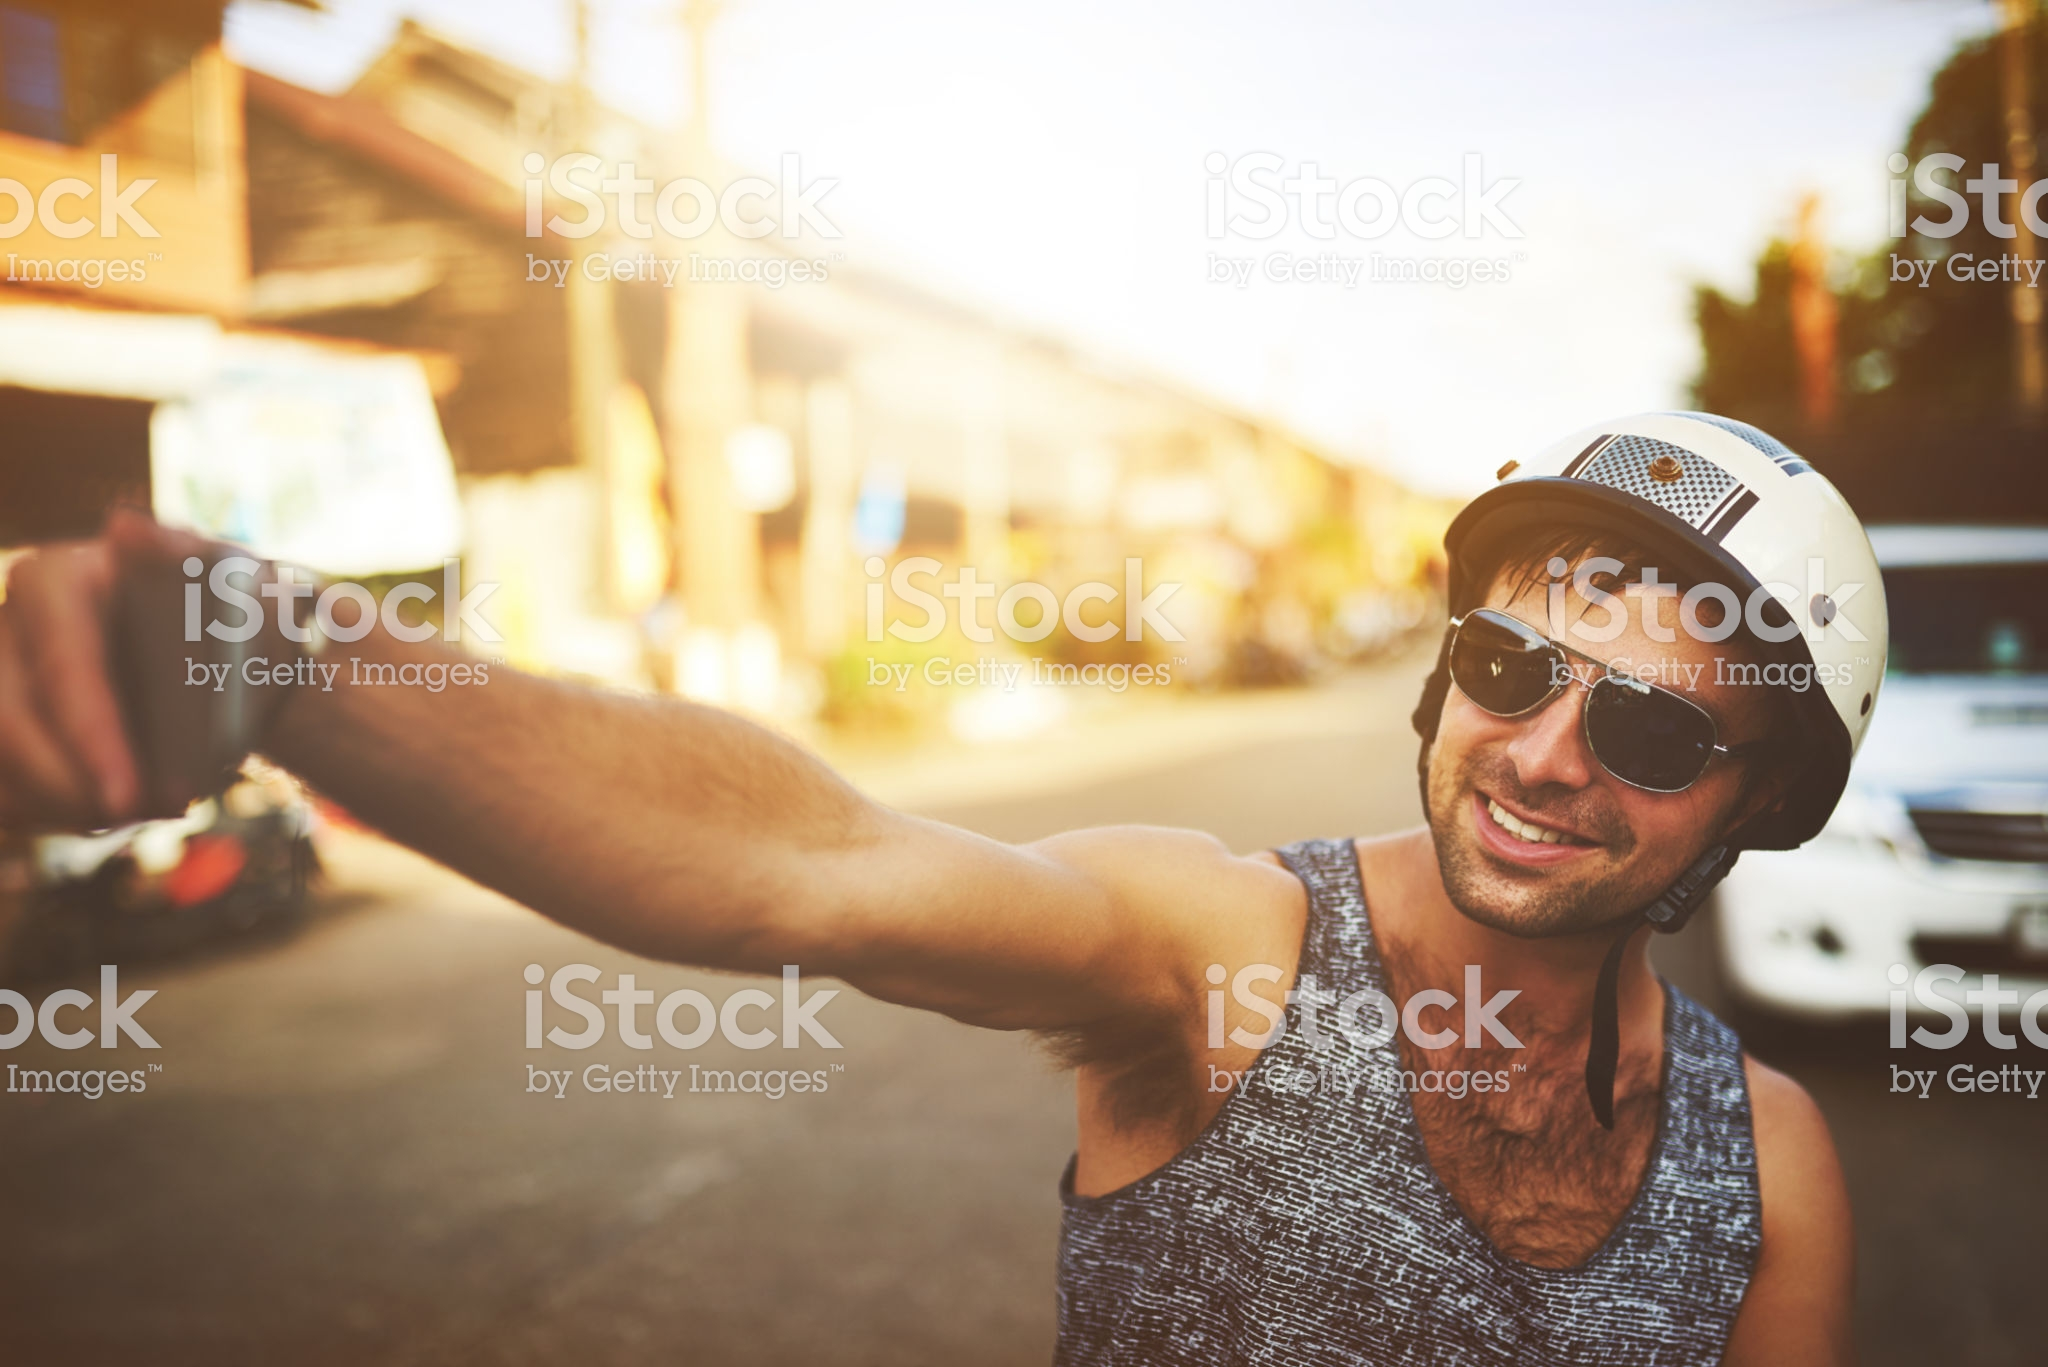helmet: (1438, 407, 1906, 748)
